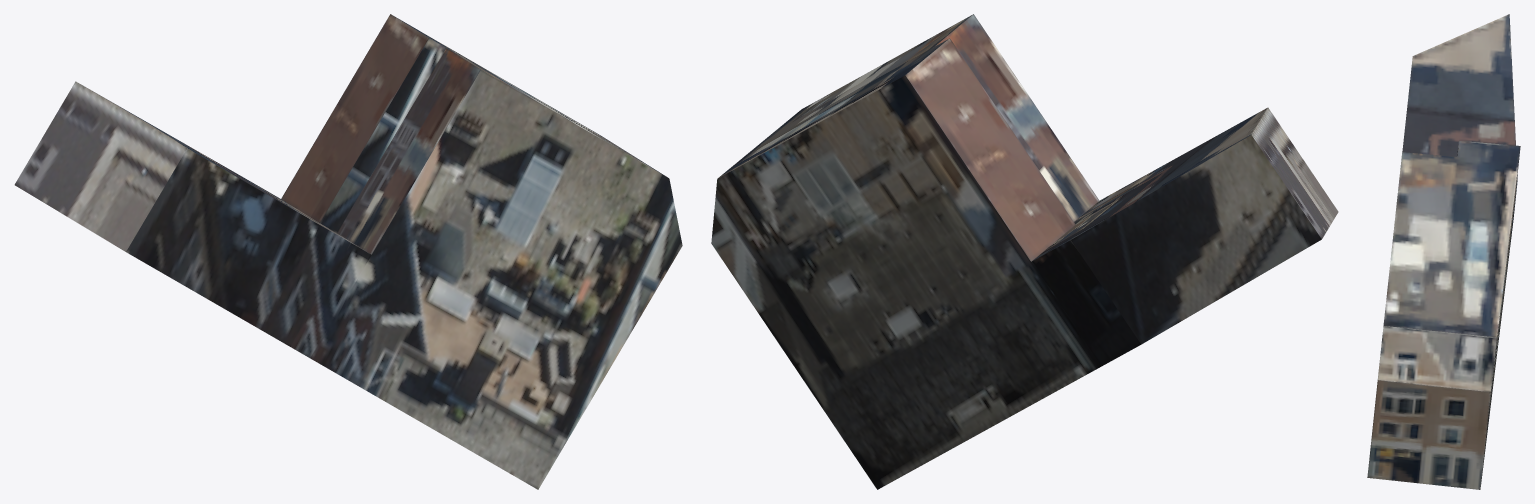
3 renders of one model, left to right at view 1: azimuth 30°, elevation 25°; view 2: azimuth 150°, elevation 25°; view 3: azimuth 270°, elevation 25°, orthographic. The views are drawn at different scales.
Parts seen in each view (by area): view 1: BAG_0599100000671728 (×4); view 2: BAG_0599100000671728 (×3); view 3: BAG_0599100000671728 (×2).
Boxes of the visible parts, x1,y1,x2,y2 form: BAG_0599100000671728 (×4): (14,14,682,489); BAG_0599100000671728 (×3): (711,14,1338,489); BAG_0599100000671728 (×2): (1367,14,1520,489).
Bounding box in the file's own units: 26.78 × 19.22 × 7.92.
5 materials, 5 textured.
